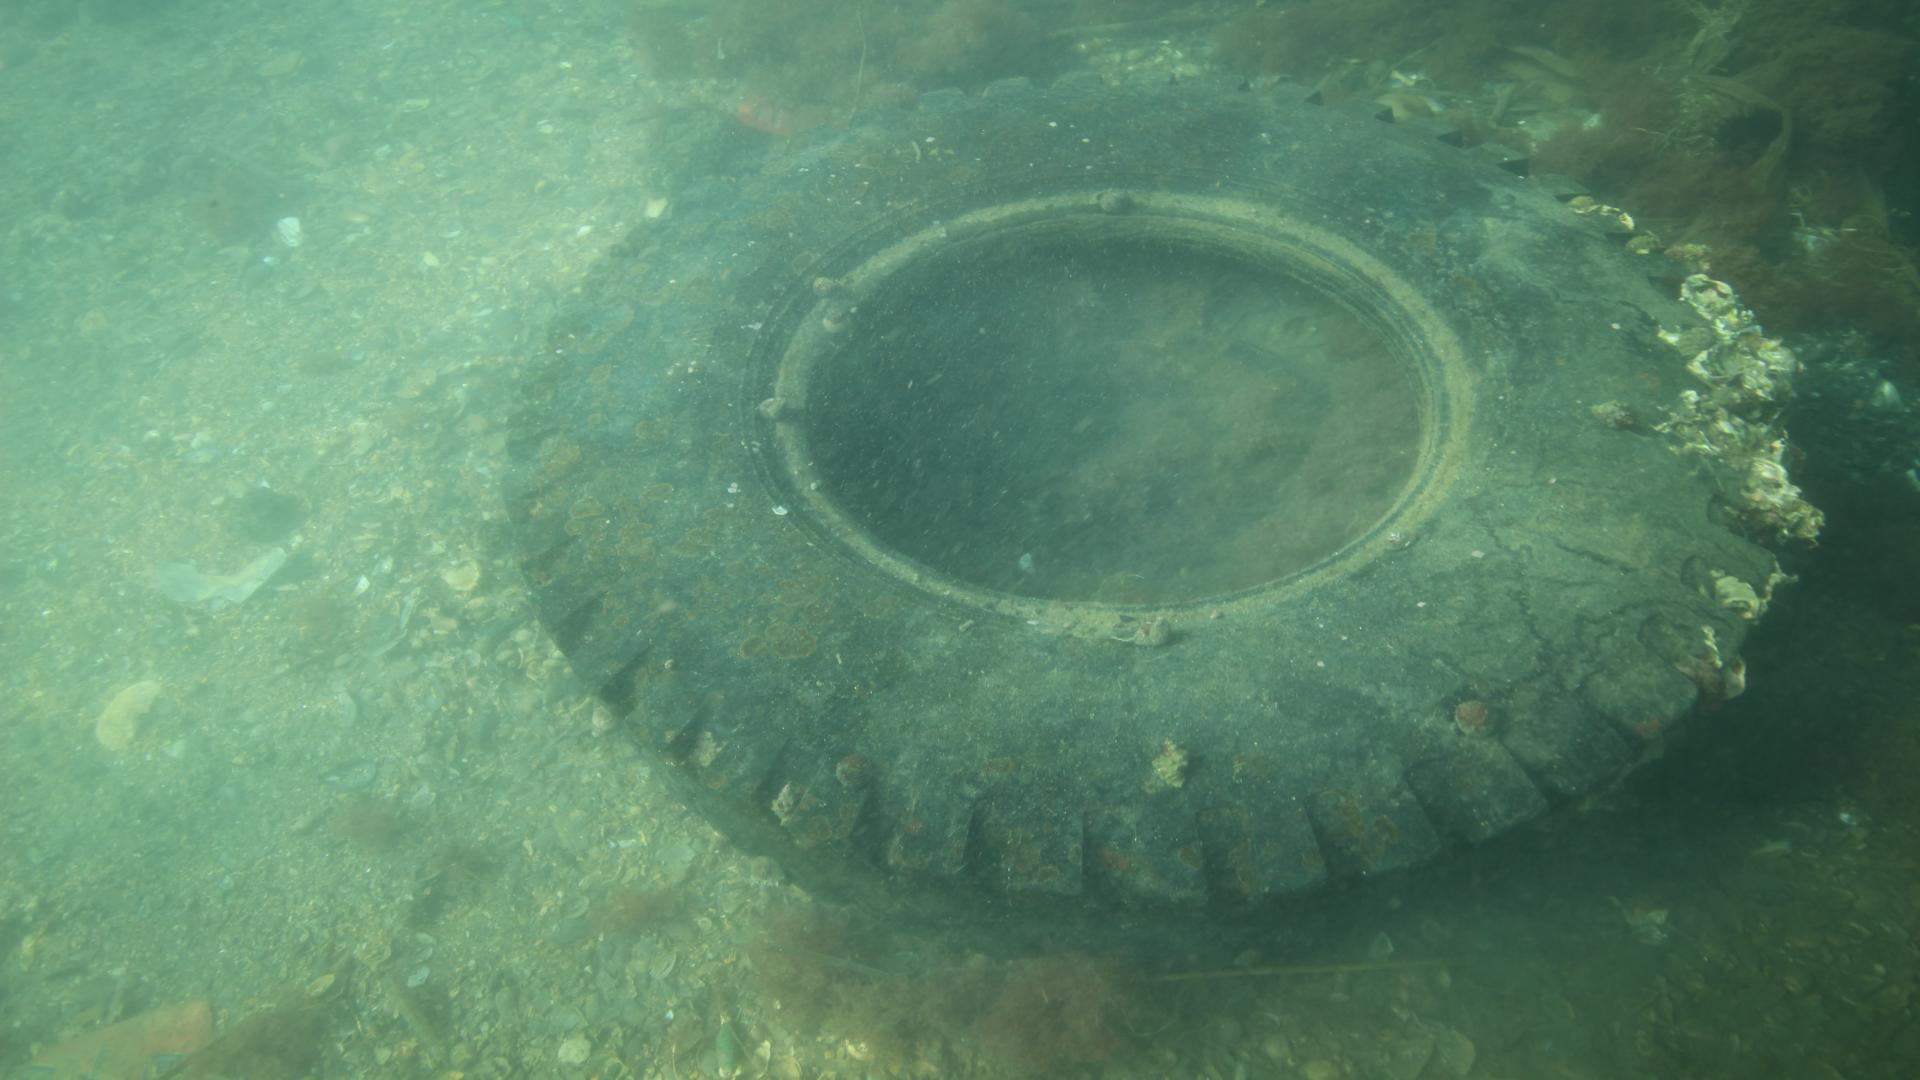tire: (498, 69, 1813, 936)
